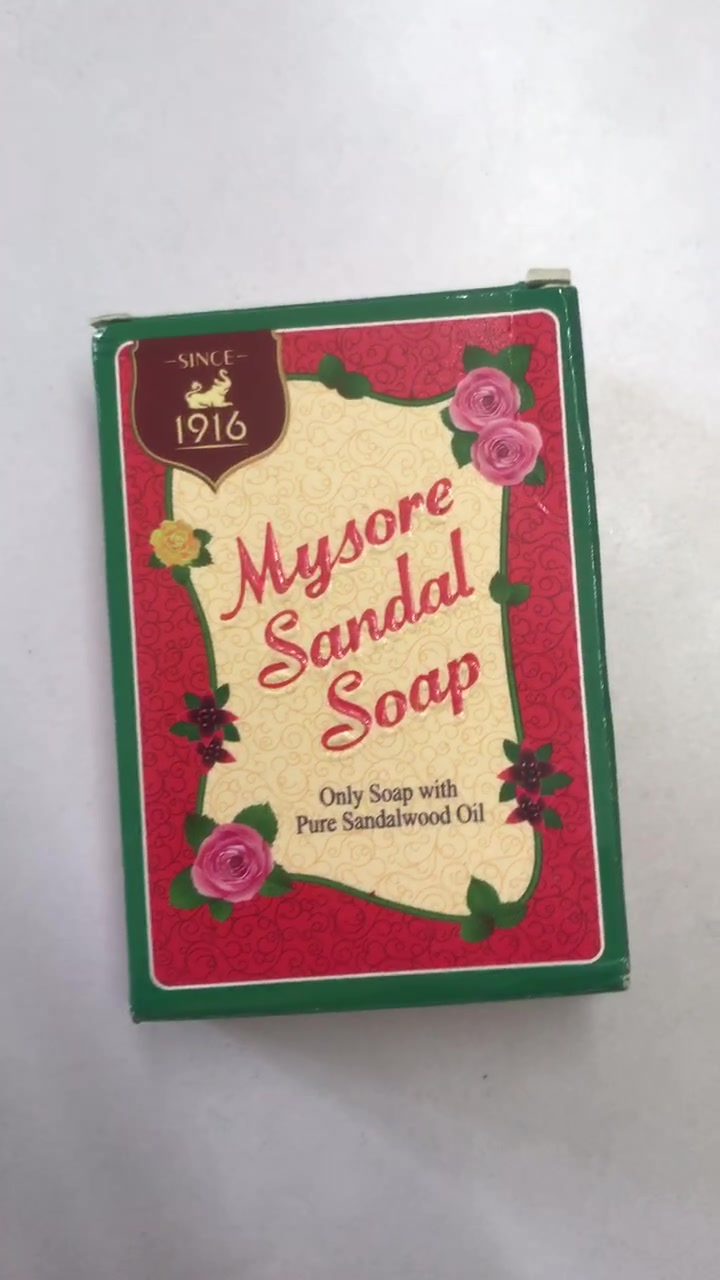mysore sandal soap: (96, 287, 630, 1023)
